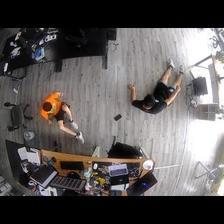fall: (129, 60, 183, 114), (37, 91, 88, 143)
